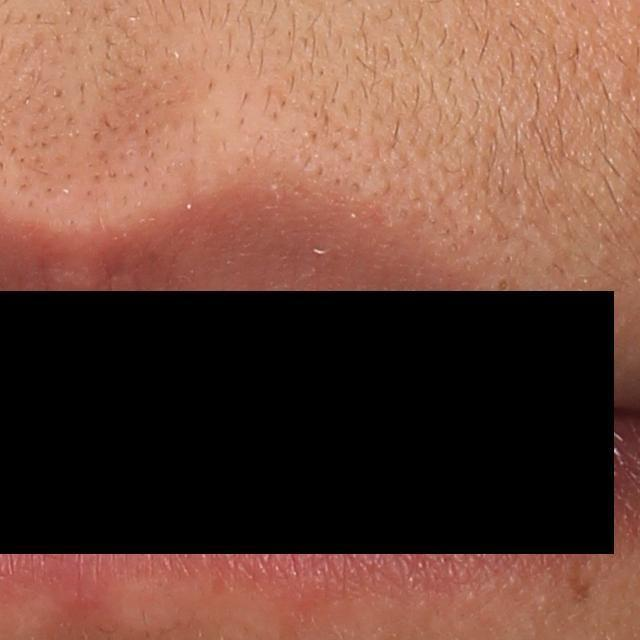nevus: (568, 572, 595, 604)
